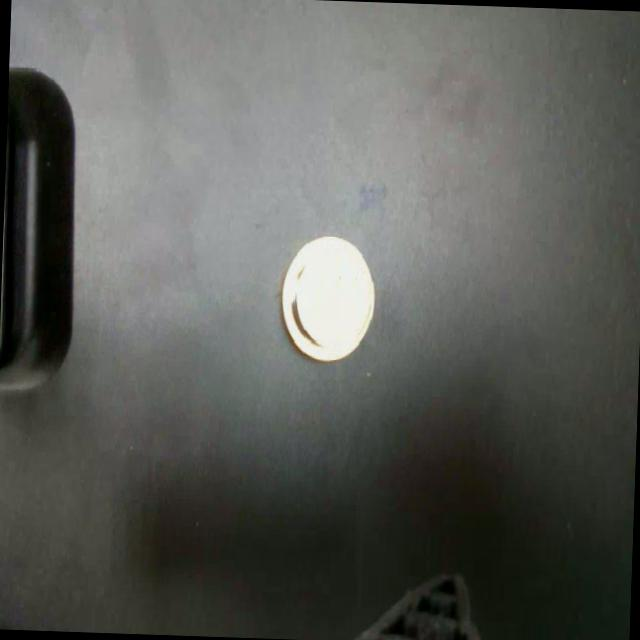sensor: (278, 232, 378, 363)
